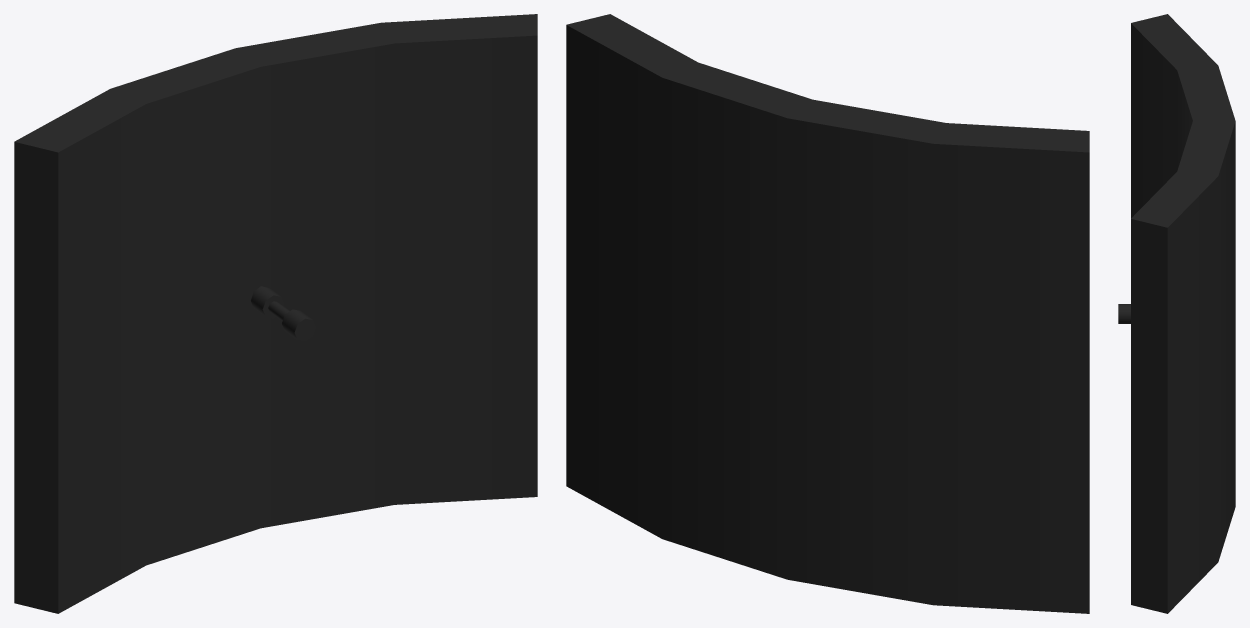
The model's file is aquila_active_radiator_srf_2.obj.
3 renders of one model, left to right at view 1: azimuth 30°, elevation 25°; view 2: azimuth 150°, elevation 25°; view 3: azimuth 270°, elevation 25°, orthographic. The views are drawn at different scales.
Parts seen in each view (by area): view 1: aquila_active_radiator_srf_2; view 2: aquila_active_radiator_srf_2; view 3: aquila_active_radiator_srf_2.
Boxes of the visible parts, x1,y1,x2,y2 form: aquila_active_radiator_srf_2: (14, 14, 537, 613); aquila_active_radiator_srf_2: (566, 14, 1089, 613); aquila_active_radiator_srf_2: (1118, 14, 1235, 613).
Size of the model in its own units: 1.19 by 1 by 0.275.
